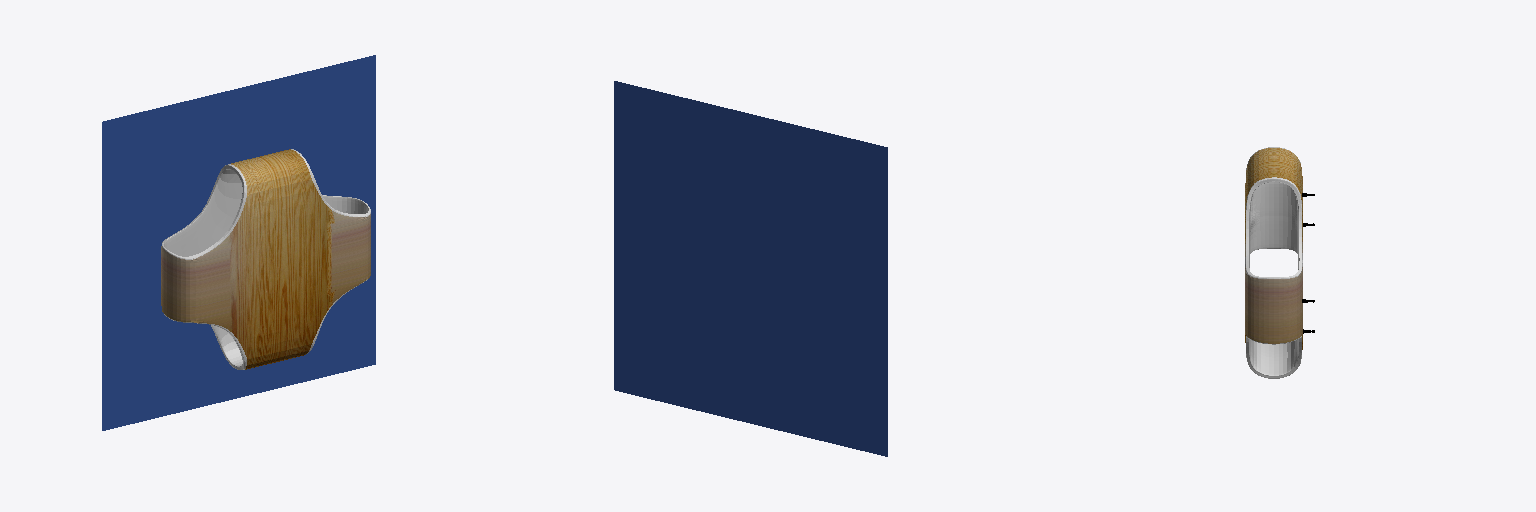
3 renders of one model, left to right at view 1: azimuth 30°, elevation 25°; view 2: azimuth 150°, elevation 25°; view 3: azimuth 270°, elevation 25°, orthographic.
Visible parts, largest first — view 1: Box01_pivot; view 2: Box01_pivot; view 3: Box01_pivot.
Boxes of the visible parts, box(x1,y1,x2,y2) form: Box01_pivot: box(102, 55, 375, 430); Box01_pivot: box(614, 81, 887, 456); Box01_pivot: box(1245, 147, 1314, 378).
Size of the model in its own units: 304 by 328 by 67.11.
Materials: 4 (1 with a texture image).